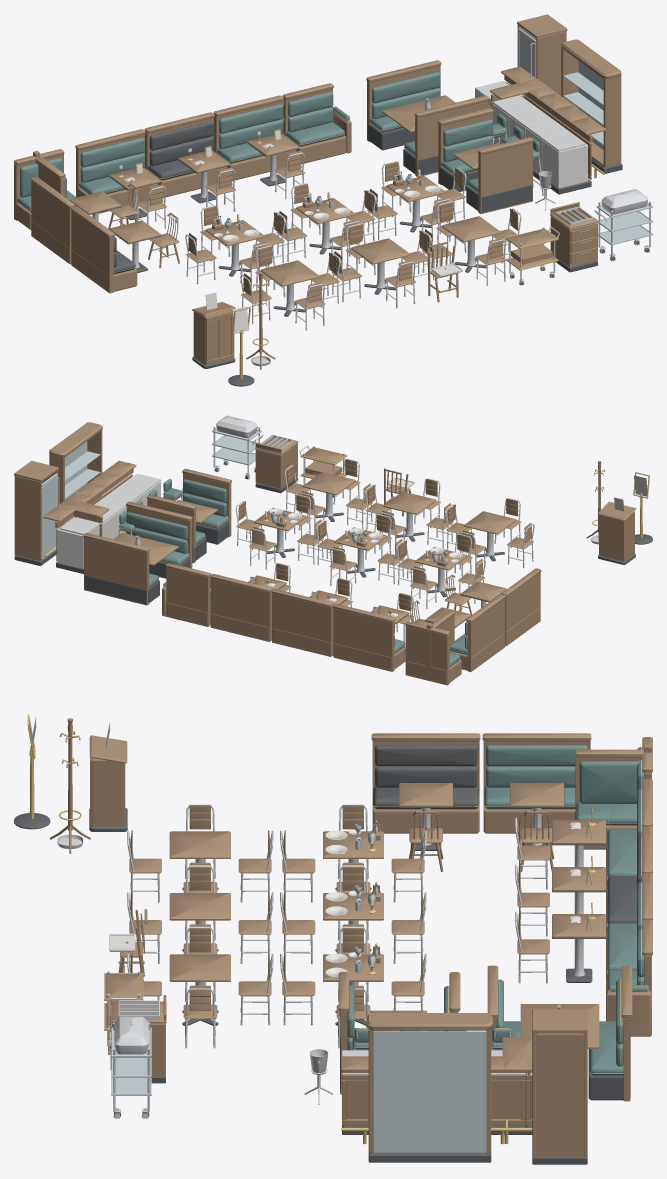
The model's file is restaurant-dining-room.glb.
3 views of the same model, one above another, from view 1: azimuth 30°, elevation 25°; view 2: azimuth 150°, elevation 25°; view 3: azimuth 270°, elevation 25° (orthographic). The views are drawn at different scales.
Visible parts, largest first — view 1: 048-booth-2-cover/3, 047-booth-4-cover/3, 058-back-bar-shelving/1, 006-banquette-bench-1400-dark/0, 005-banquette-bench-1400/0, 002-banquette-bench-1400-dark/2, 003-banquette-bench-1400/2, 001-banquette-bench-1400/2, 004-banquette-end/2, 047-booth-4-cover/1, 060-host-stand/1, 059-wine-display-cabinet/1 (+33 smaller); view 2: 047-booth-4-cover/3, 001-banquette-bench-1400/0, 003-banquette-bench-1400/0, 002-banquette-bench-1400-dark/0, 000-banquette-corner/0, 059-wine-display-cabinet/1, 004-banquette-end/0, 005-banquette-bench-1400/0, 006-banquette-bench-1400-dark/0, 060-host-stand/1, 048-booth-2-cover/3, 047-booth-4-cover/1 (+26 smaller); view 3: 058-back-bar-shelving/2, 059-wine-display-cabinet/1, 006-banquette-bench-1400-dark/2, 005-banquette-bench-1400/2, 006-banquette-bench-1400-dark/0, 000-banquette-corner/1, 058-back-bar-shelving/1, 047-booth-4-cover/3, 060-host-stand/1, 005-banquette-bench-1400/0, 047-booth-4-cover/1, 050-bar-counter-module/2 (+35 smaller).
Boxes of the visible parts, x1,y1,x2,y2 form: 048-booth-2-cover/3: (437, 108, 533, 213); 047-booth-4-cover/3: (366, 60, 489, 177); 058-back-bar-shelving/1: (561, 39, 621, 167); 006-banquette-bench-1400-dark/0: (70, 205, 137, 293); 005-banquette-bench-1400/0: (30, 176, 74, 264); 002-banquette-bench-1400-dark/2: (148, 121, 224, 180); 003-banquette-bench-1400/2: (217, 104, 294, 163); 001-banquette-bench-1400/2: (79, 138, 155, 194); 004-banquette-end/2: (286, 92, 349, 146); 047-booth-4-cover/1: (369, 72, 440, 156); 060-host-stand/1: (192, 302, 235, 365); 059-wine-display-cabinet/1: (517, 14, 567, 121); 047-booth-4-cover/3: (83, 501, 192, 605); 001-banquette-bench-1400/0: (333, 603, 405, 671); 003-banquette-bench-1400/0: (210, 574, 272, 641); 002-banquette-bench-1400-dark/0: (271, 589, 333, 656); 000-banquette-corner/0: (405, 610, 461, 685); 059-wine-display-cabinet/1: (14, 460, 58, 561); 004-banquette-end/0: (162, 563, 211, 626); 005-banquette-bench-1400/0: (450, 594, 505, 671); 006-banquette-bench-1400-dark/0: (502, 568, 541, 646); 060-host-stand/1: (597, 501, 636, 561); 048-booth-2-cover/3: (147, 468, 231, 563); 047-booth-4-cover/1: (126, 512, 189, 586); 058-back-bar-shelving/2: (373, 1031, 486, 1152); 059-wine-display-cabinet/1: (532, 1009, 587, 1156); 006-banquette-bench-1400-dark/2: (373, 745, 478, 809); 005-banquette-bench-1400/2: (484, 745, 588, 809); 006-banquette-bench-1400-dark/0: (371, 733, 480, 833); 000-banquette-corner/1: (576, 747, 644, 825); 058-back-bar-shelving/1: (367, 1013, 492, 1152); 047-booth-4-cover/3: (487, 965, 632, 1101); 060-host-stand/1: (90, 735, 127, 826); 005-banquette-bench-1400/0: (482, 733, 591, 833); 047-booth-4-cover/1: (496, 979, 623, 1075); 050-bar-counter-module/2: (491, 1056, 525, 1125).
Size of the model in its own units: 10.96 by 1.99 by 8.35.
